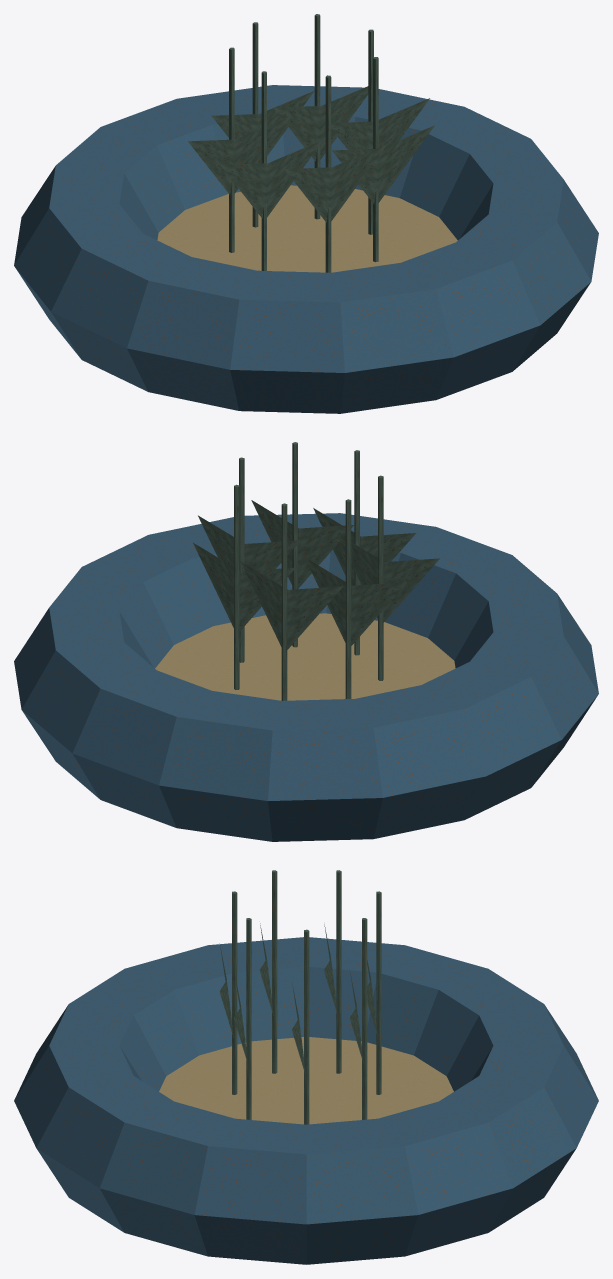
File: CIS_TirePlanter.obj
3 views of the same model, one above another, from view 1: azimuth 30°, elevation 25°; view 2: azimuth 150°, elevation 25°; view 3: azimuth 270°, elevation 25° (orthographic).
Visible parts, largest first — view 1: CIS_TirePlanter; view 2: CIS_TirePlanter; view 3: CIS_TirePlanter.
Boxes of the visible parts, x1,y1,x2,y2 form: CIS_TirePlanter: [14, 14, 598, 413]; CIS_TirePlanter: [14, 442, 598, 841]; CIS_TirePlanter: [14, 870, 598, 1264].
Size of the model in its own units: 0.79 by 0.4 by 0.79.
3 materials, 3 textured.
